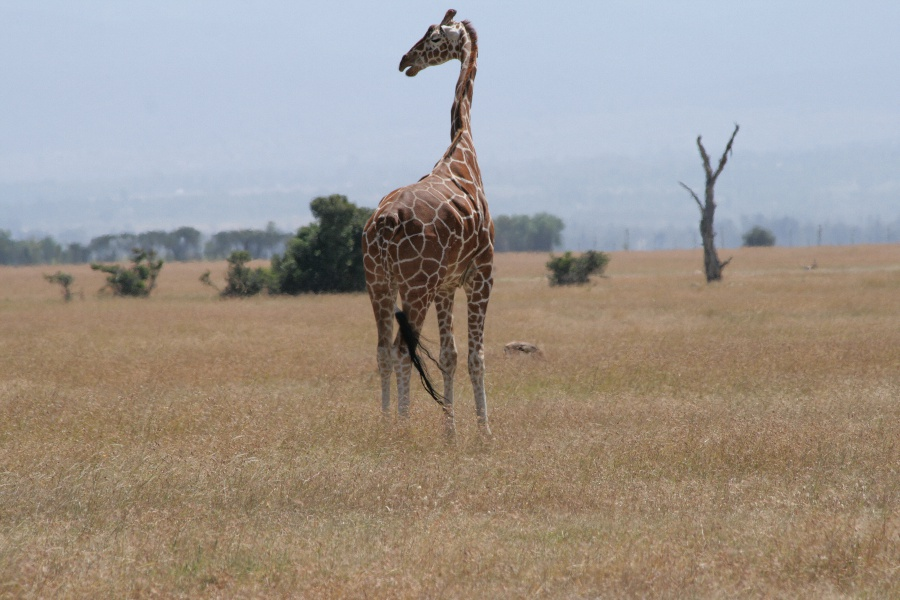giraffe: (352, 0, 499, 445)
